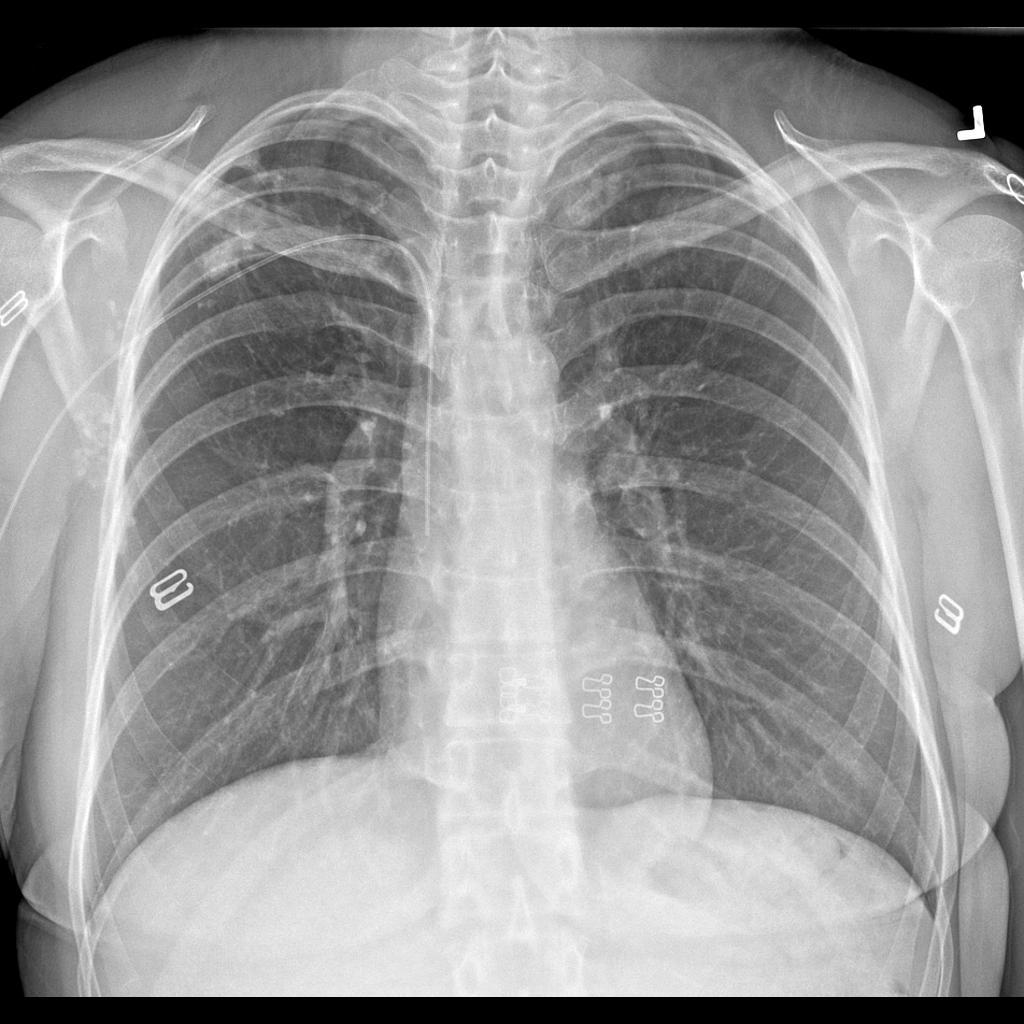Nodule: (188, 152, 285, 283)
